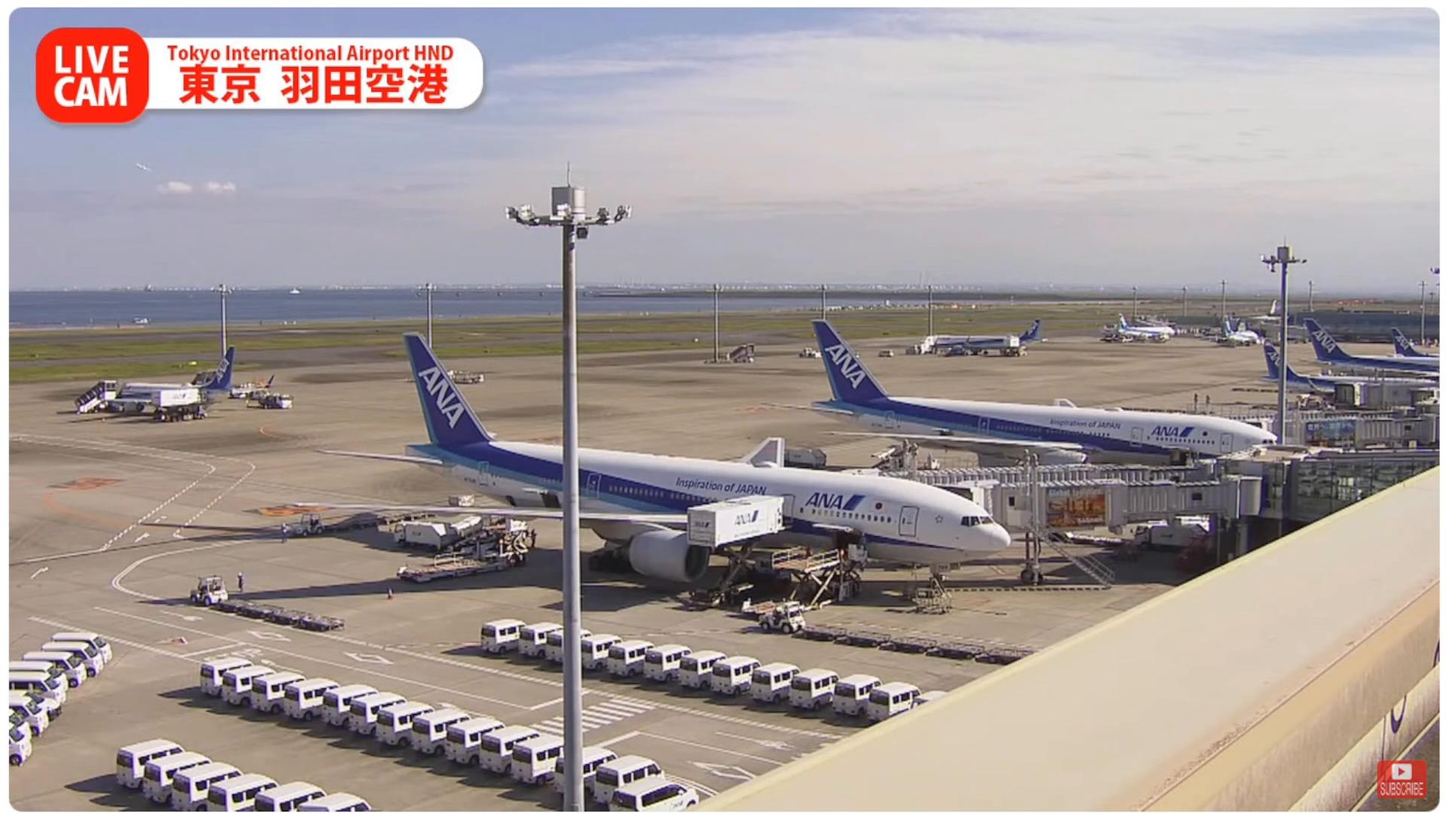Aerobridge: (956, 480, 1243, 535), (885, 461, 1213, 481)
Airplane: (287, 330, 1014, 584)
Baggage truck: (391, 522, 443, 552)
Catering: (683, 493, 787, 600)
Dolly: (794, 625, 1039, 668), (213, 595, 343, 629)
JCPL: (725, 540, 842, 621), (406, 532, 516, 581)
Skyloader: (438, 495, 521, 551)
Tractor: (758, 595, 813, 637), (192, 577, 222, 604)
Window: (1270, 448, 1442, 536)
